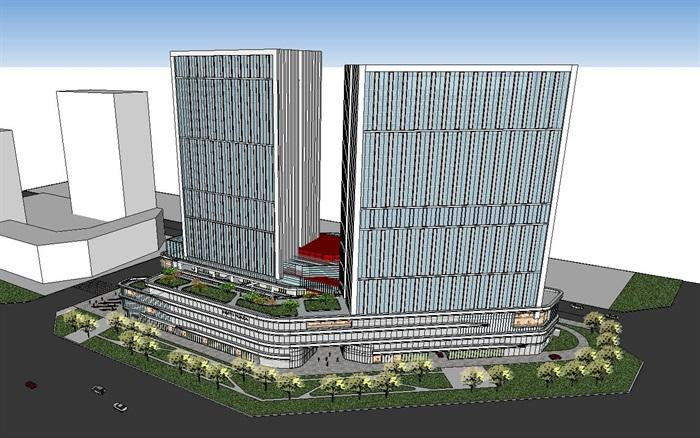buildings: (297, 67, 587, 345), (158, 54, 333, 281)
